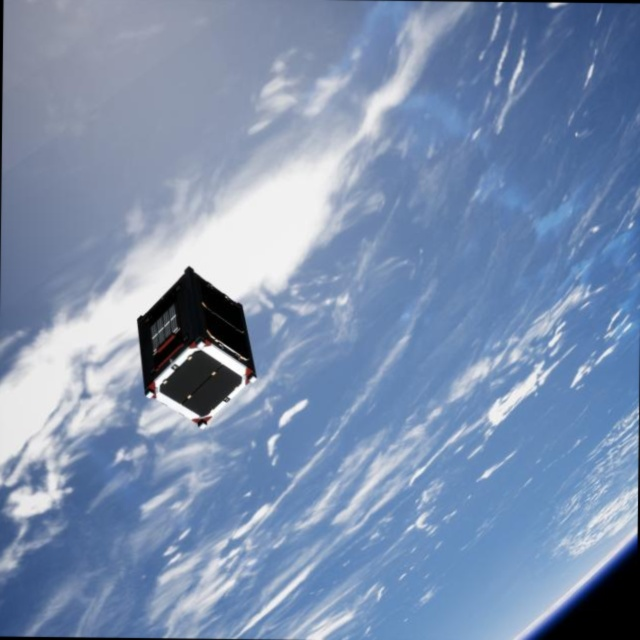medium_debris: (128, 263, 257, 432)
